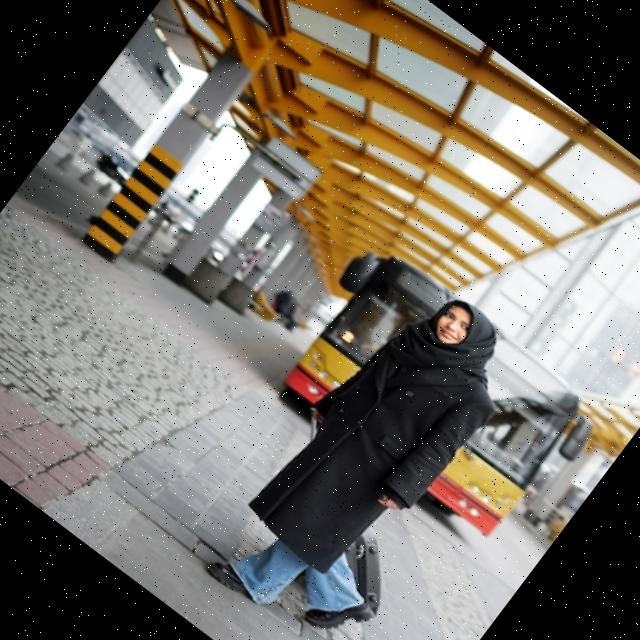Person: (196, 264, 562, 640)
